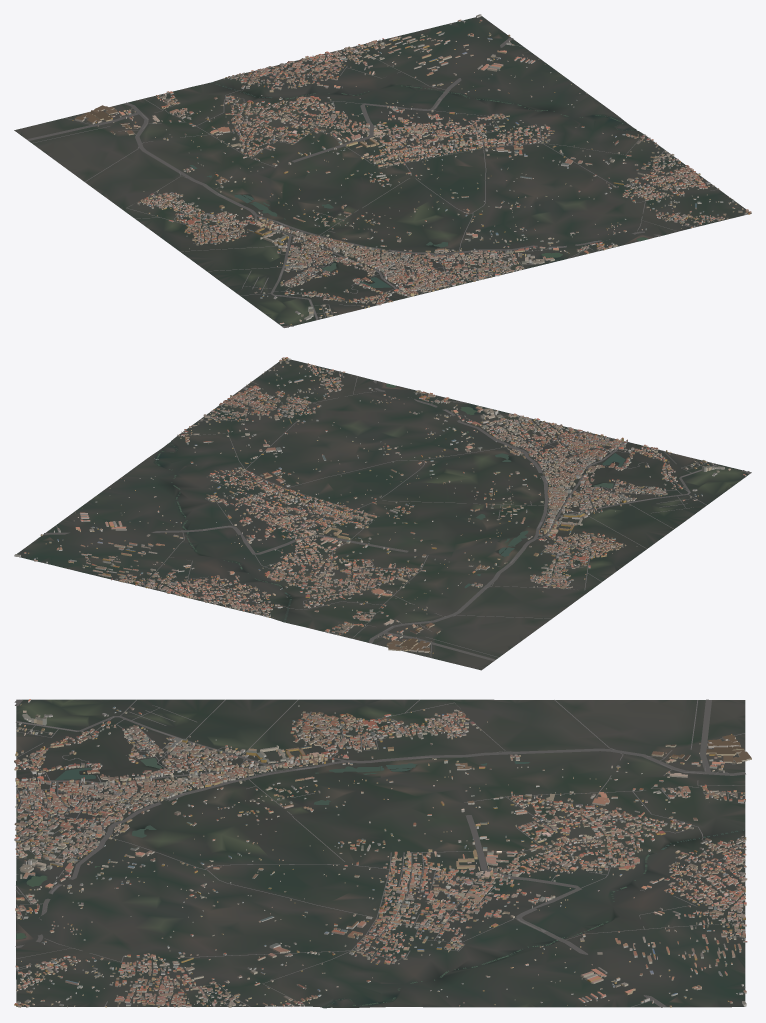
The picture shows the model from 3 angles, top to bottom: view 1: azimuth 30°, elevation 25°; view 2: azimuth 150°, elevation 25°; view 3: azimuth 270°, elevation 25°; orthographic projection. The views are drawn at different scales.
Parts seen in each view (by area): view 1: ground, buildings, roads, water; view 2: ground, buildings, roads, water; view 3: ground, buildings, roads, water.
Boxes of the visible parts, <box> form: ground: <box>14,16,751,326</box>; buildings: <box>72,14,751,325</box>; roads: <box>27,37,718,327</box>; water: <box>189,82,647,287</box>; ground: <box>14,358,748,670</box>; buildings: <box>14,357,746,653</box>; roads: <box>43,371,751,661</box>; water: <box>155,383,625,621</box>; ground: <box>16,699,745,1008</box>; buildings: <box>14,699,751,1007</box>; roads: <box>14,699,745,1007</box>; water: <box>16,758,744,1008</box>.
Bounding box in the file's own units: 2810 × 32.04 × 2837.
